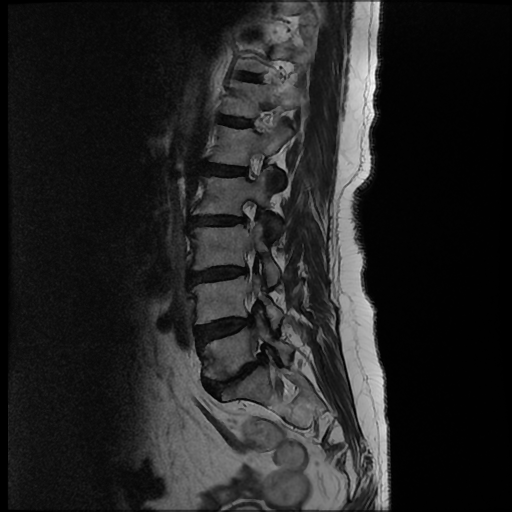RFS0: (231, 144, 276, 190), (230, 190, 271, 239)
